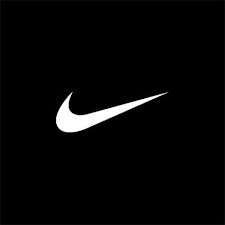nike: (27, 57, 197, 151)
